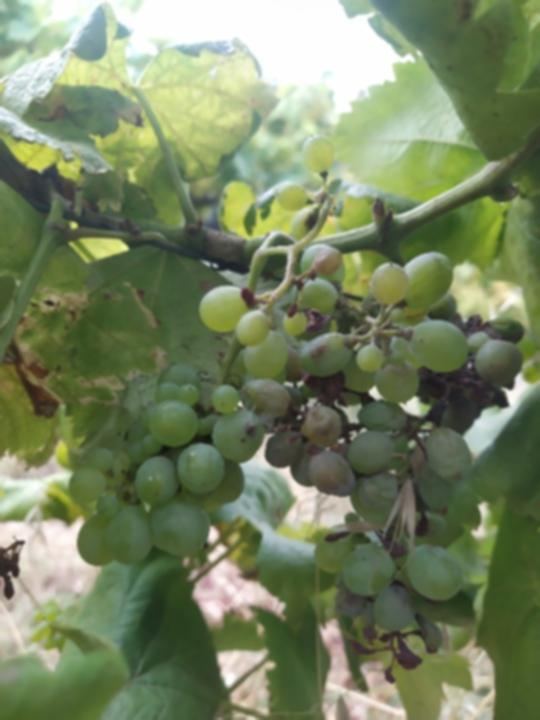grape: (196, 241, 527, 687)
